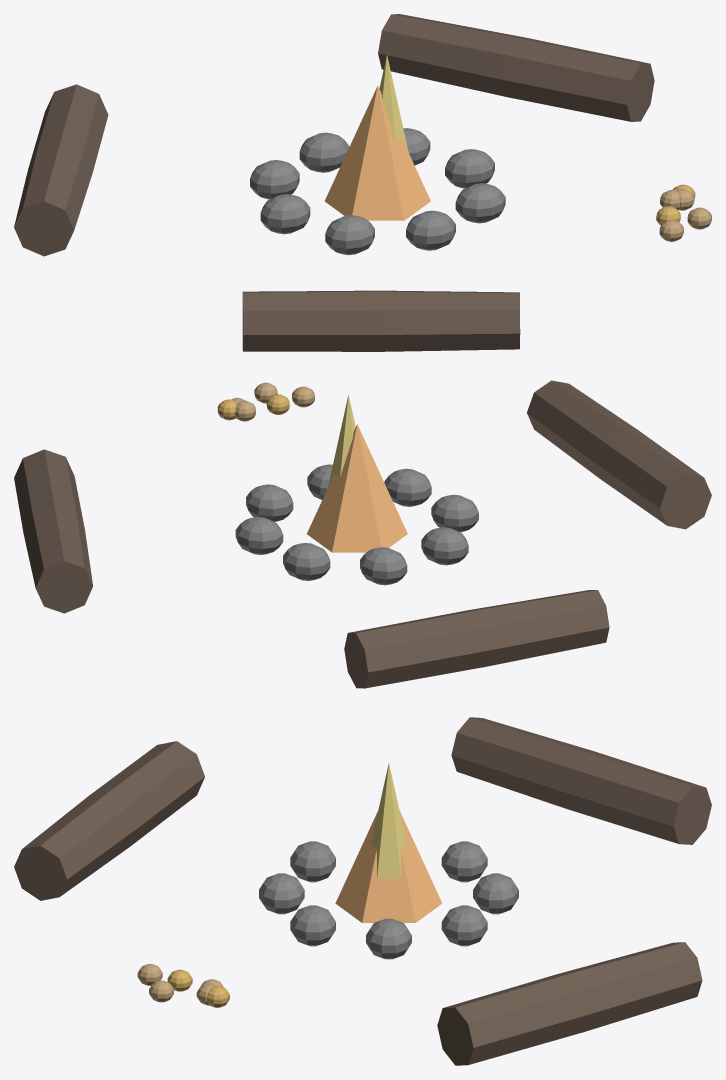
Rendered from Mist_Wolfcamp.fbx.
The picture shows the model from 3 angles, top to bottom: view 1: azimuth 30°, elevation 25°; view 2: azimuth 150°, elevation 25°; view 3: azimuth 270°, elevation 25°; orthographic projection. The views are drawn at different scales.
Visible parts, largest first — view 1: Mist_Wolfcamp; view 2: Mist_Wolfcamp; view 3: Mist_Wolfcamp.
Part boxes in pixels (x1,y1,x2,y2): Mist_Wolfcamp: (14, 14, 711, 351); Mist_Wolfcamp: (14, 380, 711, 688); Mist_Wolfcamp: (14, 717, 711, 1065).
Size of the model in its own units: 6.87 by 1.68 by 6.52.
